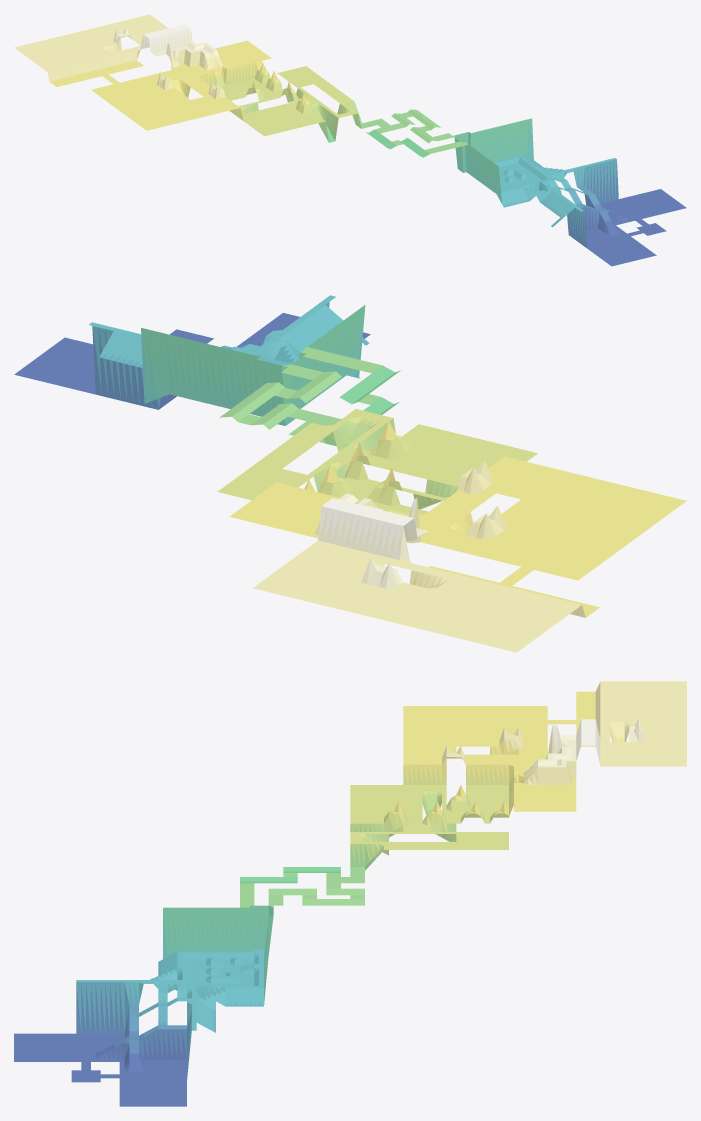
Rendered from silly-slope.glb.
The picture shows the model from 3 angles, top to bottom: view 1: azimuth 30°, elevation 25°; view 2: azimuth 150°, elevation 25°; view 3: azimuth 270°, elevation 25°; orthographic projection. The views are drawn at different scales.
Parts seen in each view (by area): view 1: silly-slope; view 2: silly-slope; view 3: silly-slope.
Boxes of the visible parts, x1,y1,x2,y2 form: silly-slope: (14,14,686,266); silly-slope: (14,295,686,652); silly-slope: (14,681,686,1106).
Bounding box in the file's own units: 140 × 37.2 × 140.
